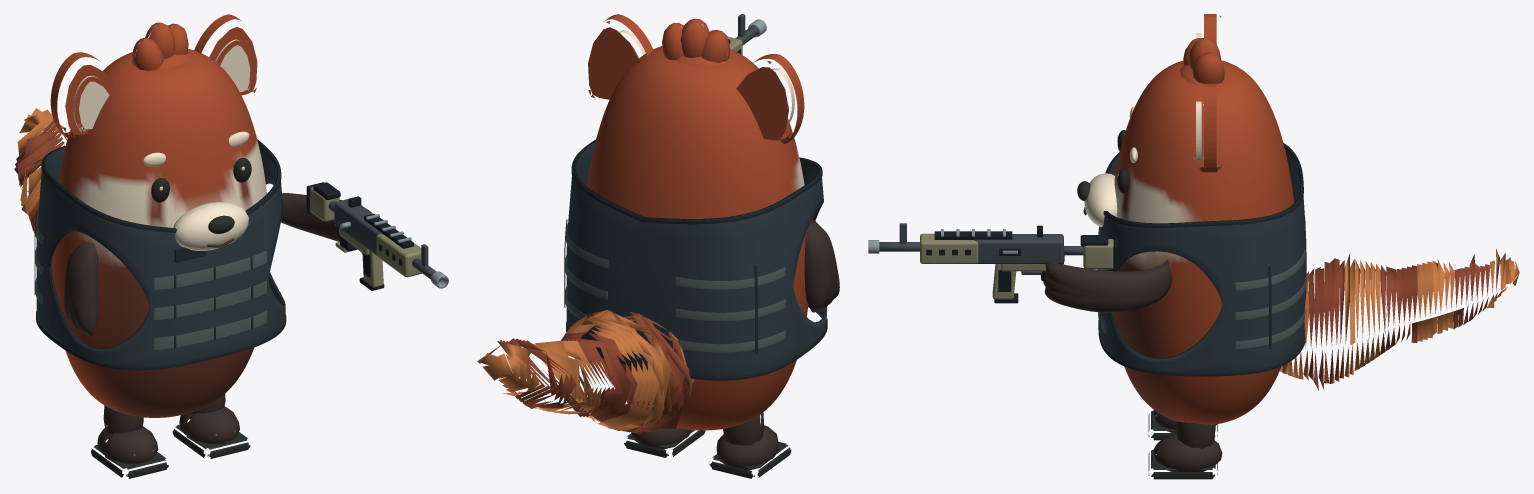
File: species-grips-redpanda-aim-preview.glb
3 renders of one model, left to right at view 1: azimuth 30°, elevation 25°; view 2: azimuth 150°, elevation 25°; view 3: azimuth 270°, elevation 25°, orthographic. The views are drawn at different scales.
Visible parts, largest first — view 1: redpanda_torso_mesh, redpanda_vest_refined_mesh, redpanda_leftFoot_mesh, redpanda_leftEar_mesh, redpanda_tail_mesh, redpanda_snout_mesh, redpanda_rightFoot_mesh, redpanda_leftArm_mesh, redpanda_rightEar_mesh, prop_m4_m4 painted furniture, redpanda_crestShort_mesh, prop_m4_Cerakote graphite (+3 smaller); view 2: redpanda_vest_refined_mesh, redpanda_torso_mesh, redpanda_tail_mesh, redpanda_leftEar_mesh, redpanda_leftFoot_mesh, redpanda_rightEar_mesh, redpanda_crestShort_mesh, redpanda_leftArm_mesh, redpanda_rightFoot_mesh; view 3: redpanda_torso_mesh, redpanda_vest_refined_mesh, redpanda_tail_mesh, redpanda_rightArm_mesh, redpanda_rightFoot_mesh, prop_m4_Cerakote graphite, prop_m4_m4 painted furniture, prop_m4_Recesses and rubber, redpanda_crestShort_mesh, redpanda_rightEar_mesh, redpanda_snout_mesh.
Boxes of the visible parts, x1,y1,x2,y2 form: redpanda_torso_mesh: (52, 48, 266, 417); redpanda_vest_refined_mesh: (34, 139, 286, 370); redpanda_leftFoot_mesh: (91, 405, 168, 478); redpanda_leftEar_mesh: (50, 52, 113, 138); redpanda_tail_mesh: (14, 108, 67, 247); redpanda_snout_mesh: (173, 202, 248, 250); redpanda_rightFoot_mesh: (172, 394, 250, 458); redpanda_leftArm_mesh: (64, 242, 98, 336); redpanda_rightEar_mesh: (194, 14, 257, 95); prop_m4_m4 painted furniture: (310, 186, 421, 287); redpanda_crestShort_mesh: (132, 22, 190, 70); prop_m4_Cerakote graphite: (328, 199, 440, 281); redpanda_vest_refined_mesh: (564, 139, 827, 380); redpanda_torso_mesh: (587, 46, 808, 430); redpanda_tail_mesh: (477, 309, 694, 434); redpanda_leftEar_mesh: (736, 54, 804, 143); redpanda_leftFoot_mesh: (709, 412, 791, 478); redpanda_rightEar_mesh: (588, 14, 653, 99); redpanda_crestShort_mesh: (662, 18, 730, 65); redpanda_leftArm_mesh: (804, 218, 839, 312); redpanda_rightFoot_mesh: (624, 427, 705, 457); redpanda_torso_mesh: (1113, 60, 1294, 424); redpanda_vest_refined_mesh: (1097, 143, 1306, 376); redpanda_tail_mesh: (1279, 248, 1519, 390); redpanda_rightArm_mesh: (1043, 260, 1172, 312); redpanda_rightFoot_mesh: (1148, 421, 1222, 479); prop_m4_Cerakote graphite: (879, 223, 1083, 274); prop_m4_m4 painted furniture: (920, 233, 1113, 298); prop_m4_Recesses and rubber: (926, 225, 1117, 303); redpanda_crestShort_mesh: (1179, 37, 1226, 85); redpanda_rightEar_mesh: (1193, 83, 1222, 172); redpanda_snout_mesh: (1077, 173, 1117, 226).
Bounding box in the file's own units: 1.26 × 1.98 × 2.82.
